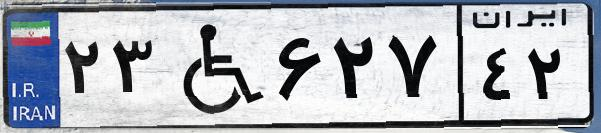2: (330, 28, 385, 110), (57, 26, 110, 100), (525, 38, 570, 115)
3: (110, 28, 158, 98)
4: (475, 38, 525, 113)
6: (270, 28, 330, 110)
7: (385, 28, 445, 110)
ژ (معلولین و جانبازان): (158, 12, 270, 120)
